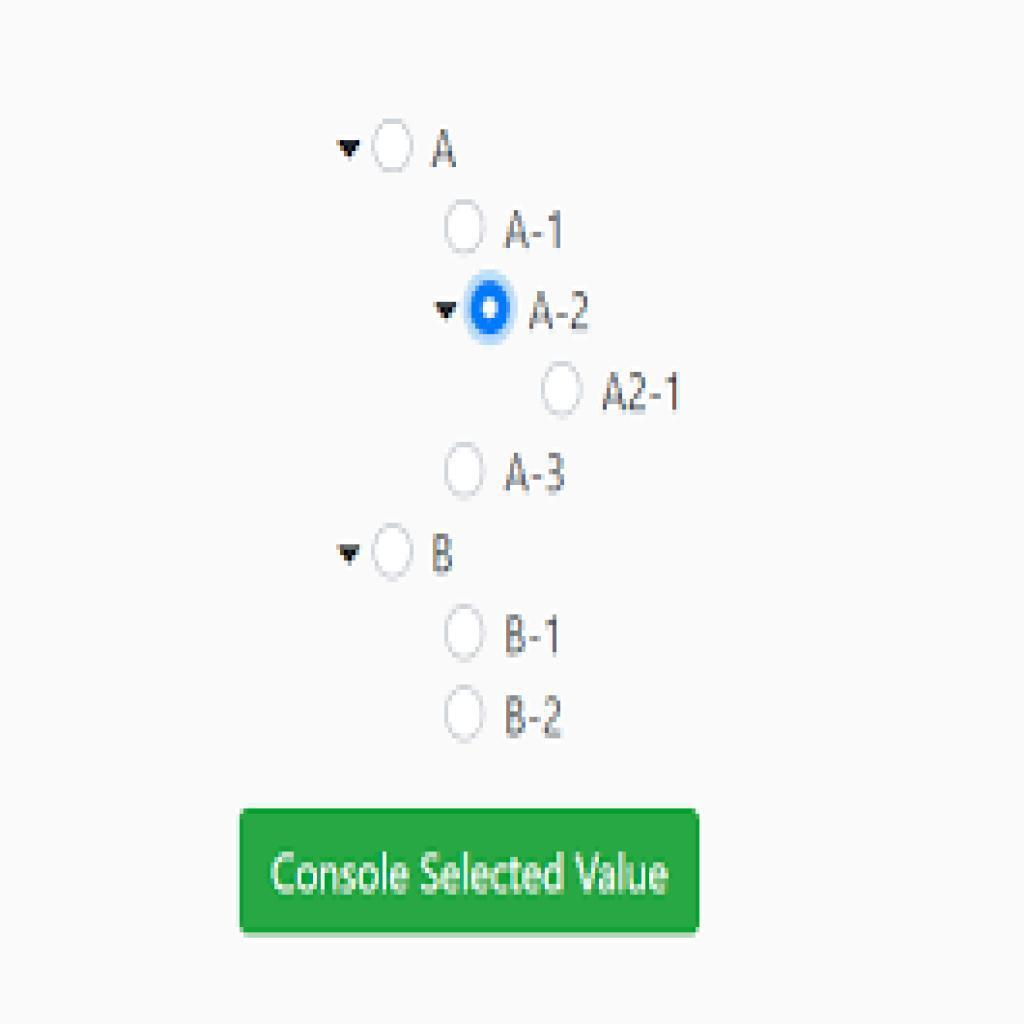button: (241, 807, 702, 935)
radio: (461, 273, 518, 341), (441, 682, 493, 744), (439, 602, 491, 663), (369, 521, 419, 580), (539, 360, 587, 420), (444, 441, 491, 502), (441, 199, 491, 255), (371, 117, 419, 175)
